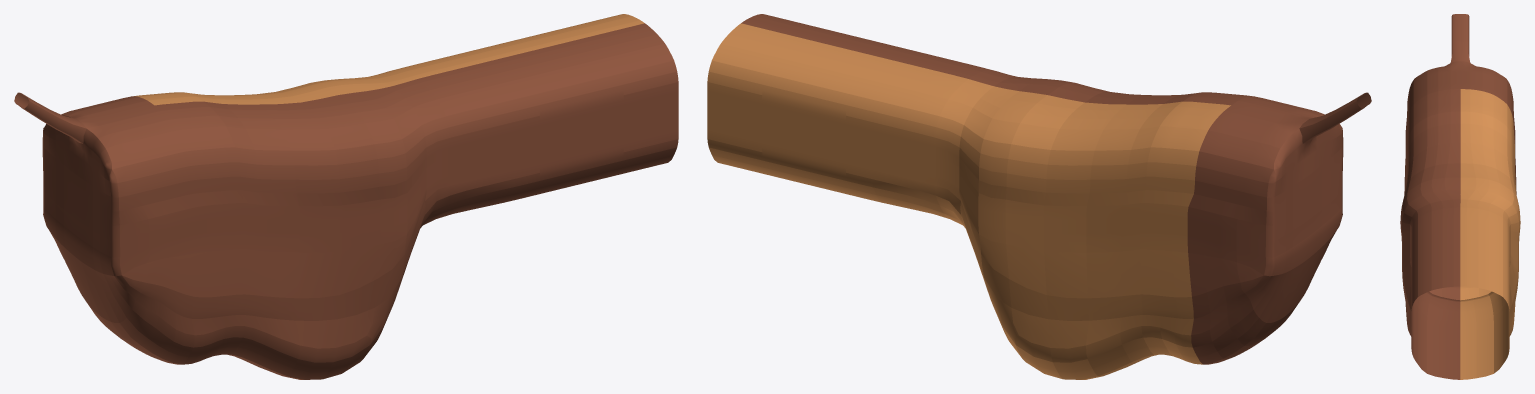
Rendered from Ear Canal Hair Turbo.FBX.
The picture shows the model from 3 angles, left to right: view 1: azimuth 30°, elevation 25°; view 2: azimuth 150°, elevation 25°; view 3: azimuth 270°, elevation 25°; orthographic projection. The views are drawn at different scales.
Parts seen in each view (by area): view 1: Drum cover004; view 2: Drum cover004; view 3: Drum cover004.
Boxes of the visible parts, box(x1,y1,x2,y2) form: Drum cover004: box(14, 14, 678, 379); Drum cover004: box(707, 14, 1371, 379); Drum cover004: box(1400, 14, 1520, 379).
Size of the model in its own units: 70.16 by 36.5 by 16.34.
Materials: 2 (2 with a texture image).
